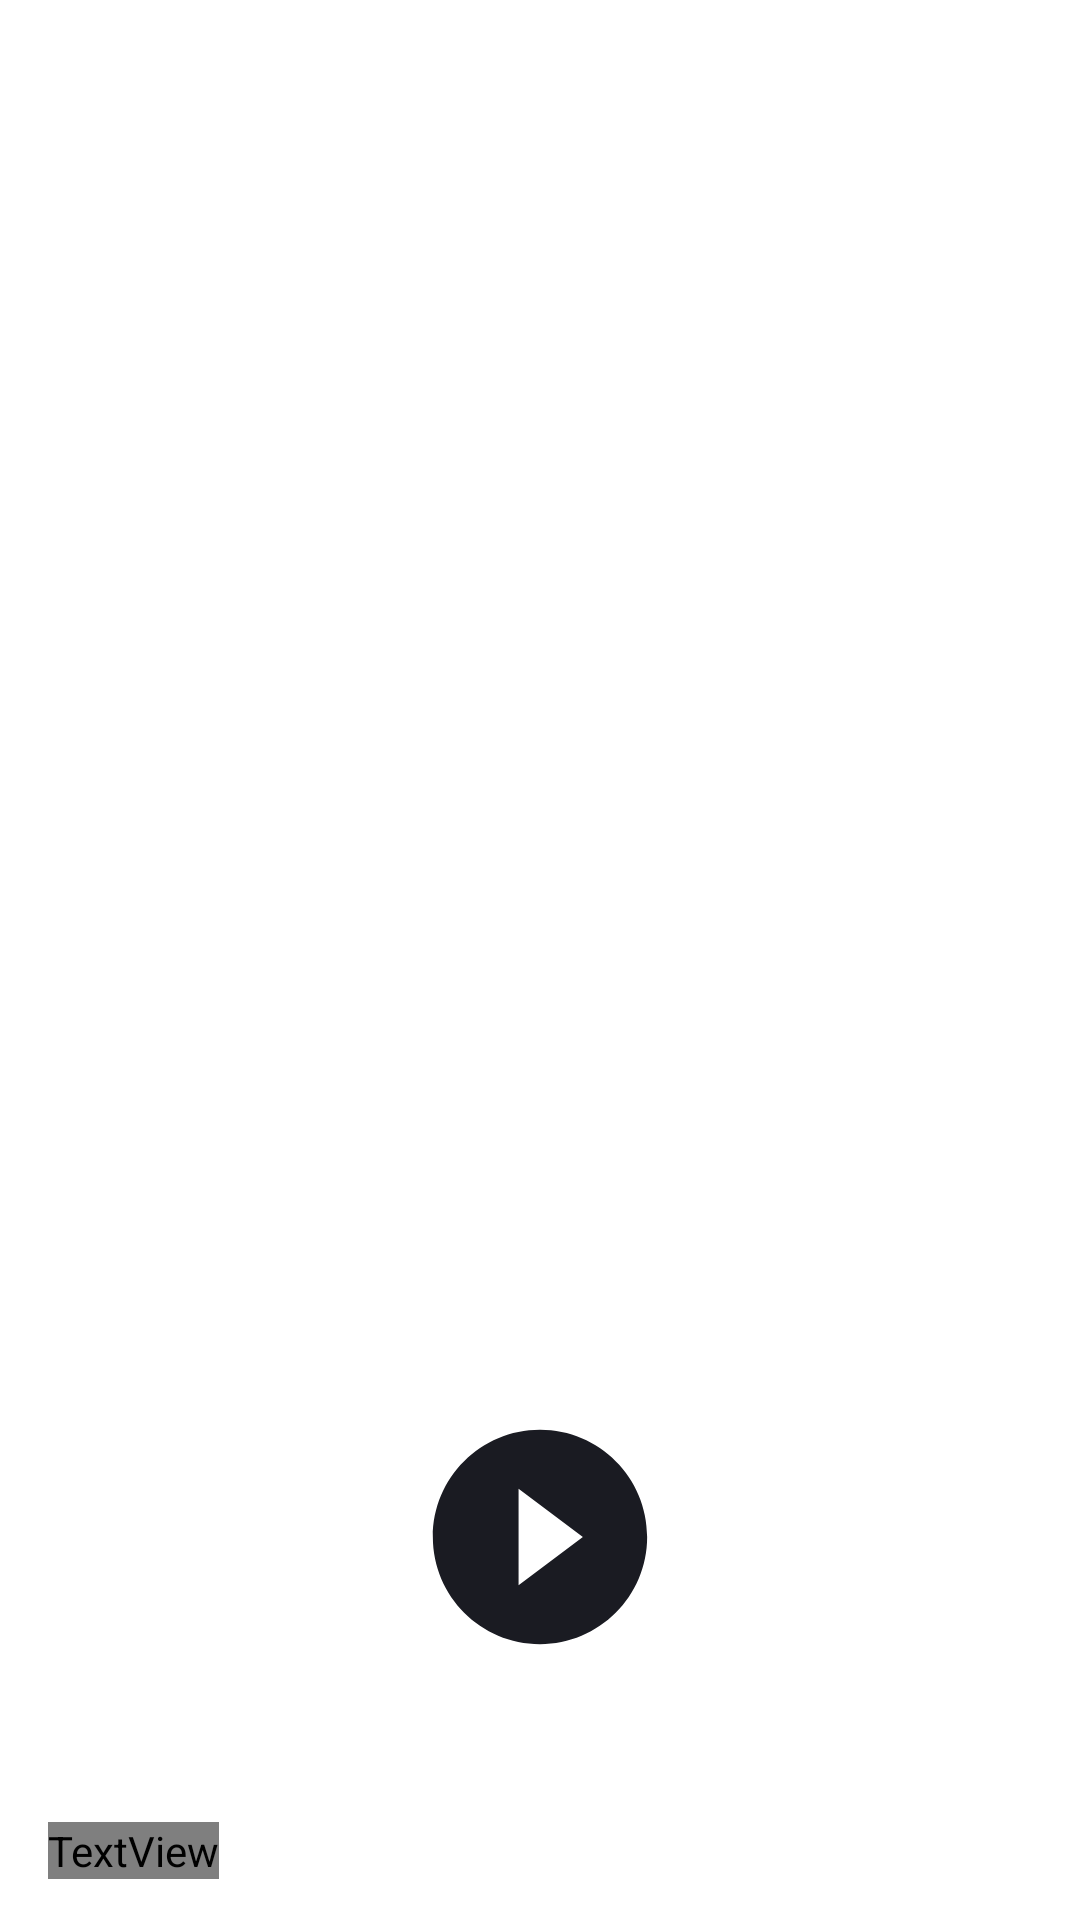

Where icons sit on this 1080px×1920px app screen, as (x1, y1, x2, y2):
Play/Pause: (432, 1429, 648, 1645)
